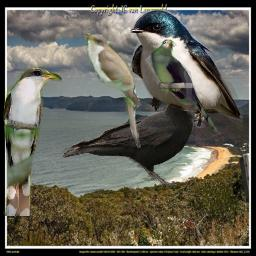Crow: (62, 92, 194, 188)
Cuckoo: (2, 66, 62, 216), (79, 30, 143, 149), (150, 39, 224, 135)
Swallow: (131, 9, 243, 128)
